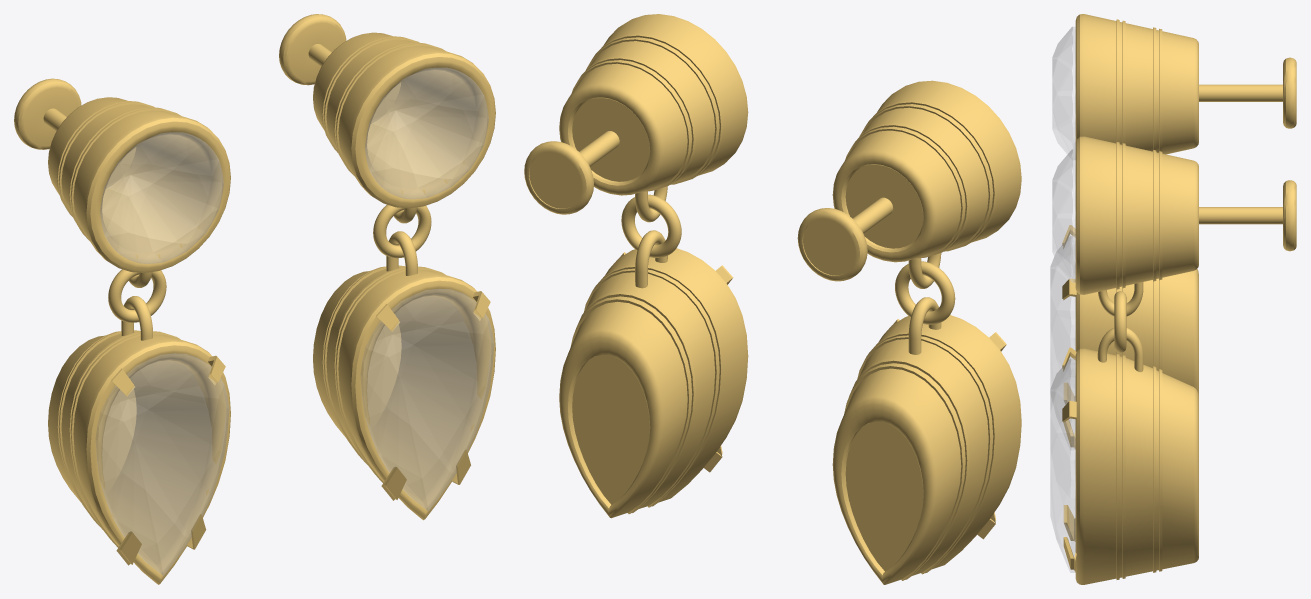
The picture shows the model from 3 angles, left to right: view 1: azimuth 30°, elevation 25°; view 2: azimuth 150°, elevation 25°; view 3: azimuth 270°, elevation 25°; orthographic projection. The views are drawn at different scales.
Visible parts, largest first — view 1: Bot_stud.001, Bot_stud, Top_stud.001, Top_stud, Pear.001, Pear, Diamond, Diamond.001, Bet_link, Bet_link.001, Bot_link.001, Bot_link; view 2: Bot_stud, Bot_stud.001, Top_stud, Top_stud.001, Bet_link.001, Bet_link, Bot_link, Bot_link.001; view 3: Bot_stud.001, Top_stud.001, Top_stud, Bot_stud, Pear.001, Pear, Diamond.001, Diamond, Bot_link.001, Bet_link.001, Top_link.001.
Part boxes in pixels (x1,y1,x2,y2): Bot_stud.001: [313, 265, 495, 520]; Bot_stud: [48, 330, 230, 584]; Top_stud.001: [279, 14, 495, 208]; Top_stud: [14, 78, 230, 272]; Pear.001: [360, 289, 493, 510]; Pear: [96, 353, 228, 575]; Diamond: [100, 132, 223, 263]; Diamond.001: [365, 68, 488, 198]; Bet_link: [108, 269, 166, 322]; Bet_link.001: [373, 204, 431, 258]; Bot_link.001: [386, 231, 417, 275]; Bot_link: [121, 296, 152, 340]; Bot_stud: [832, 315, 1021, 584]; Bot_stud.001: [559, 248, 748, 518]; Top_stud: [797, 80, 1021, 281]; Top_stud.001: [524, 14, 748, 214]; Bet_link.001: [621, 194, 681, 257]; Bet_link: [895, 261, 955, 324]; Bot_link: [908, 297, 941, 354]; Bot_link.001: [635, 230, 667, 288]; Bot_stud.001: [1062, 347, 1198, 584]; Top_stud.001: [1075, 136, 1296, 294]; Top_stud: [1075, 14, 1296, 154]; Bot_stud: [1062, 225, 1198, 448]; Pear.001: [1050, 358, 1075, 572]; Pear: [1050, 236, 1075, 449]; Diamond.001: [1052, 149, 1075, 282]; Diamond: [1052, 27, 1075, 159]; Bot_link.001: [1097, 328, 1143, 372]; Bet_link.001: [1114, 291, 1126, 352]; Top_link.001: [1098, 282, 1143, 316].
Bounding box in the file's own units: 0.1634 × 0.1773 × 0.0898.
